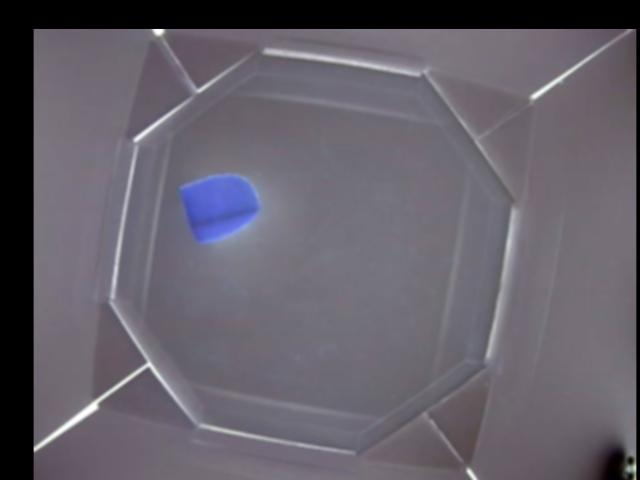Potato: (180, 171, 257, 245)
